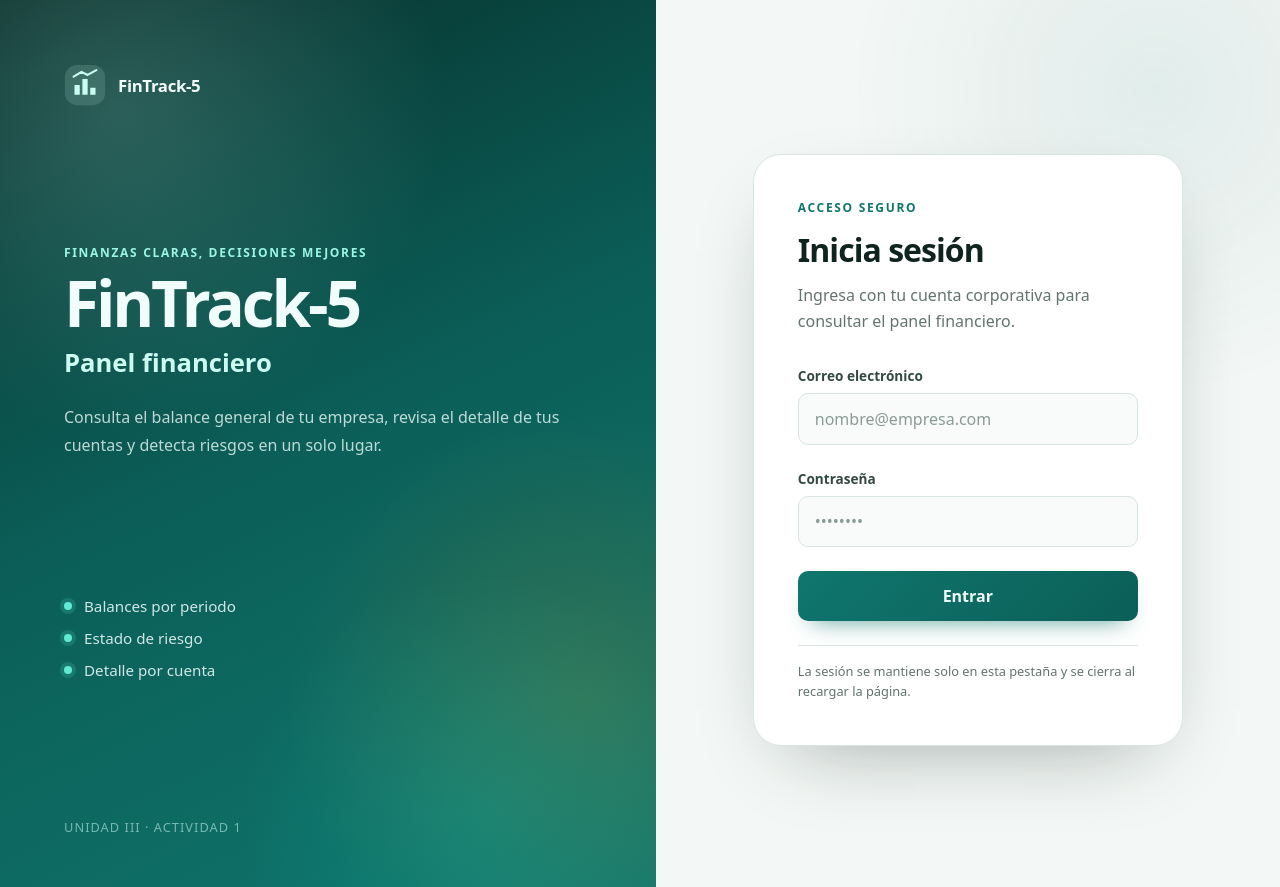
Test: AccountsTable › se integra con el dashboard junto al resumen y el filtro
This screenshot has width=1280, height=887.
Type "admin_a@test.local" into the field labelled "Correo electrónico". click: (968, 419)
box: [798,393,1138,444]
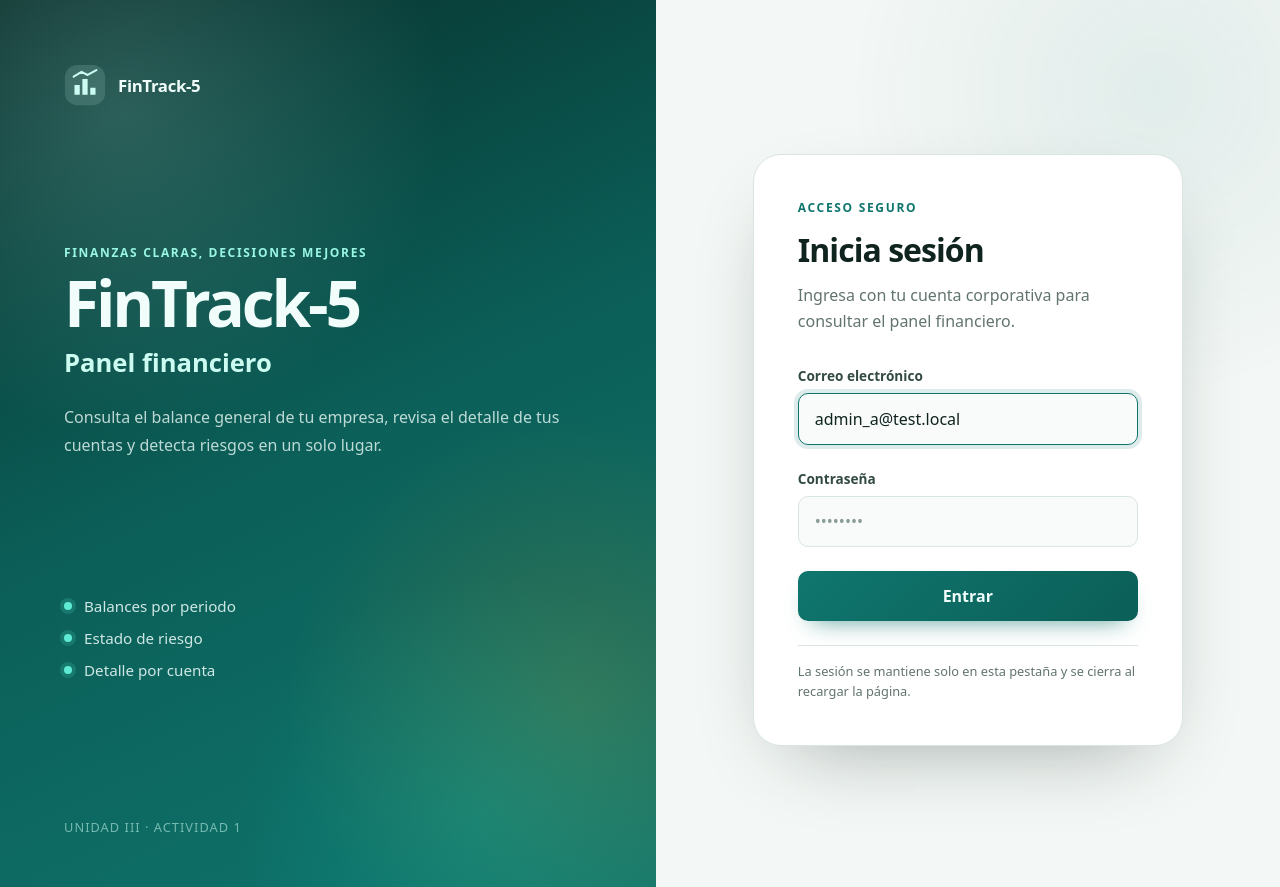
Type "clave-correcta" into the password field labelled "Contraseña". click: (968, 521)
box: [798,496,1138,547]
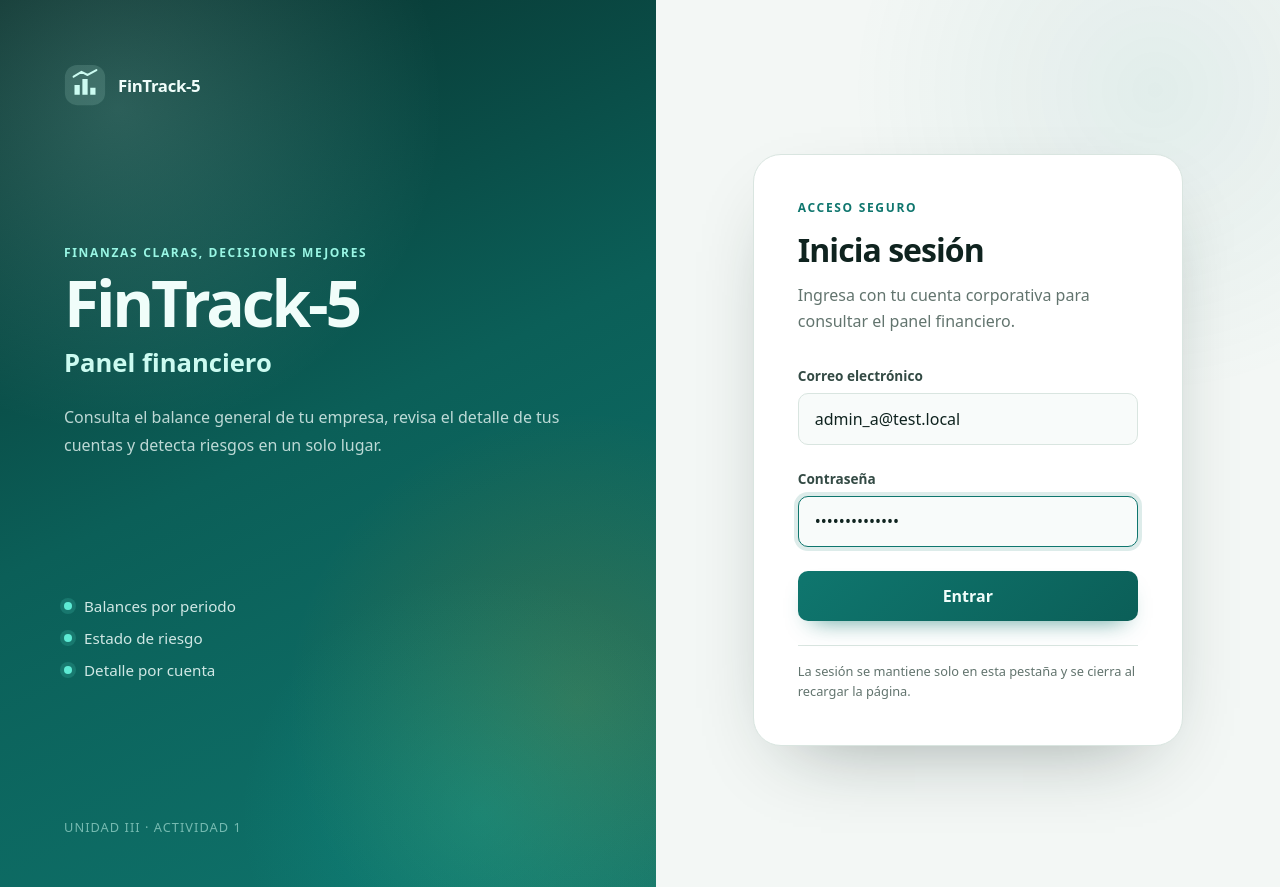
Click the button "Entrar". click: click(968, 596)
box: [798,571,1138,622]
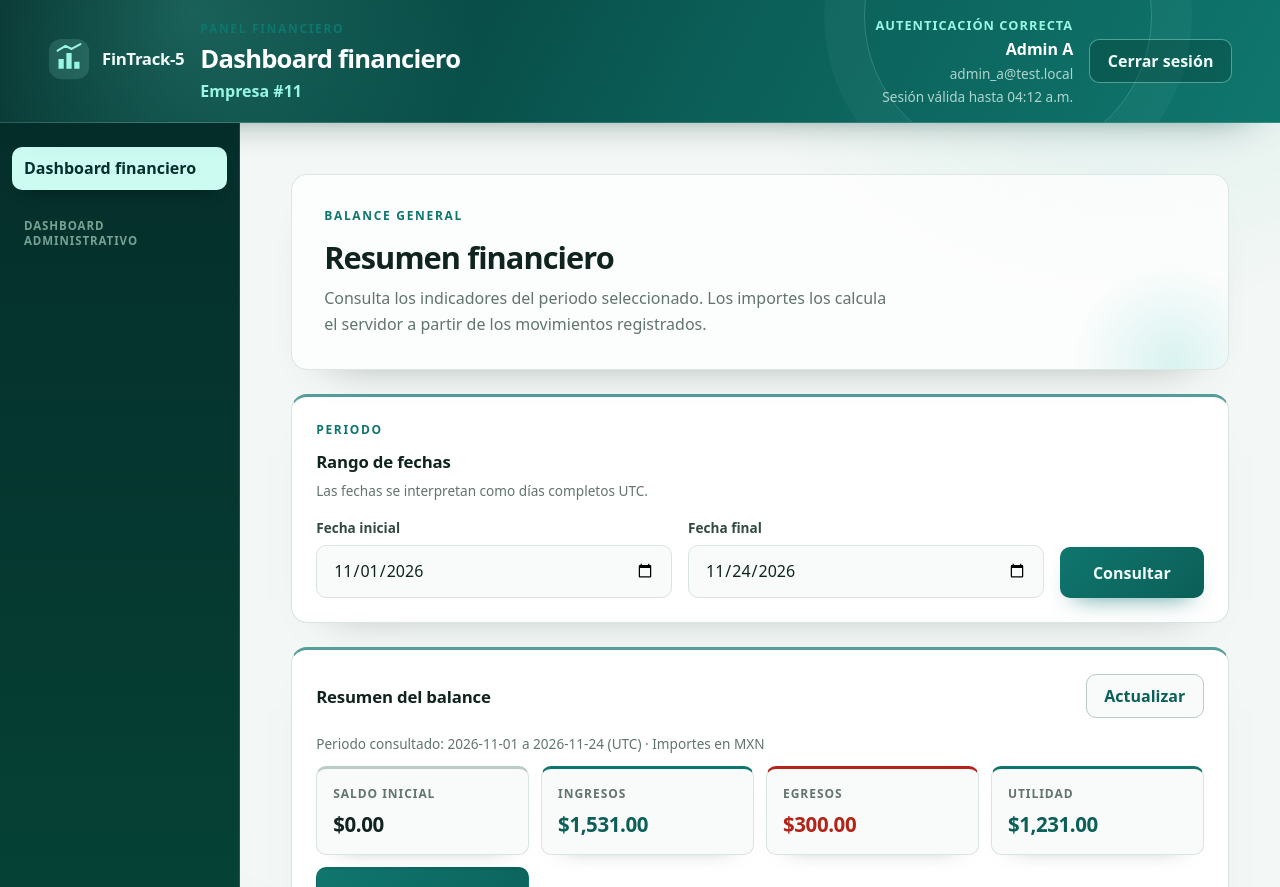
Expected: the button "Consultar" is shown, [1060,547,1204,598]
Now the button "Cerrar sesión" is shown, box [1089,39,1232,83]
